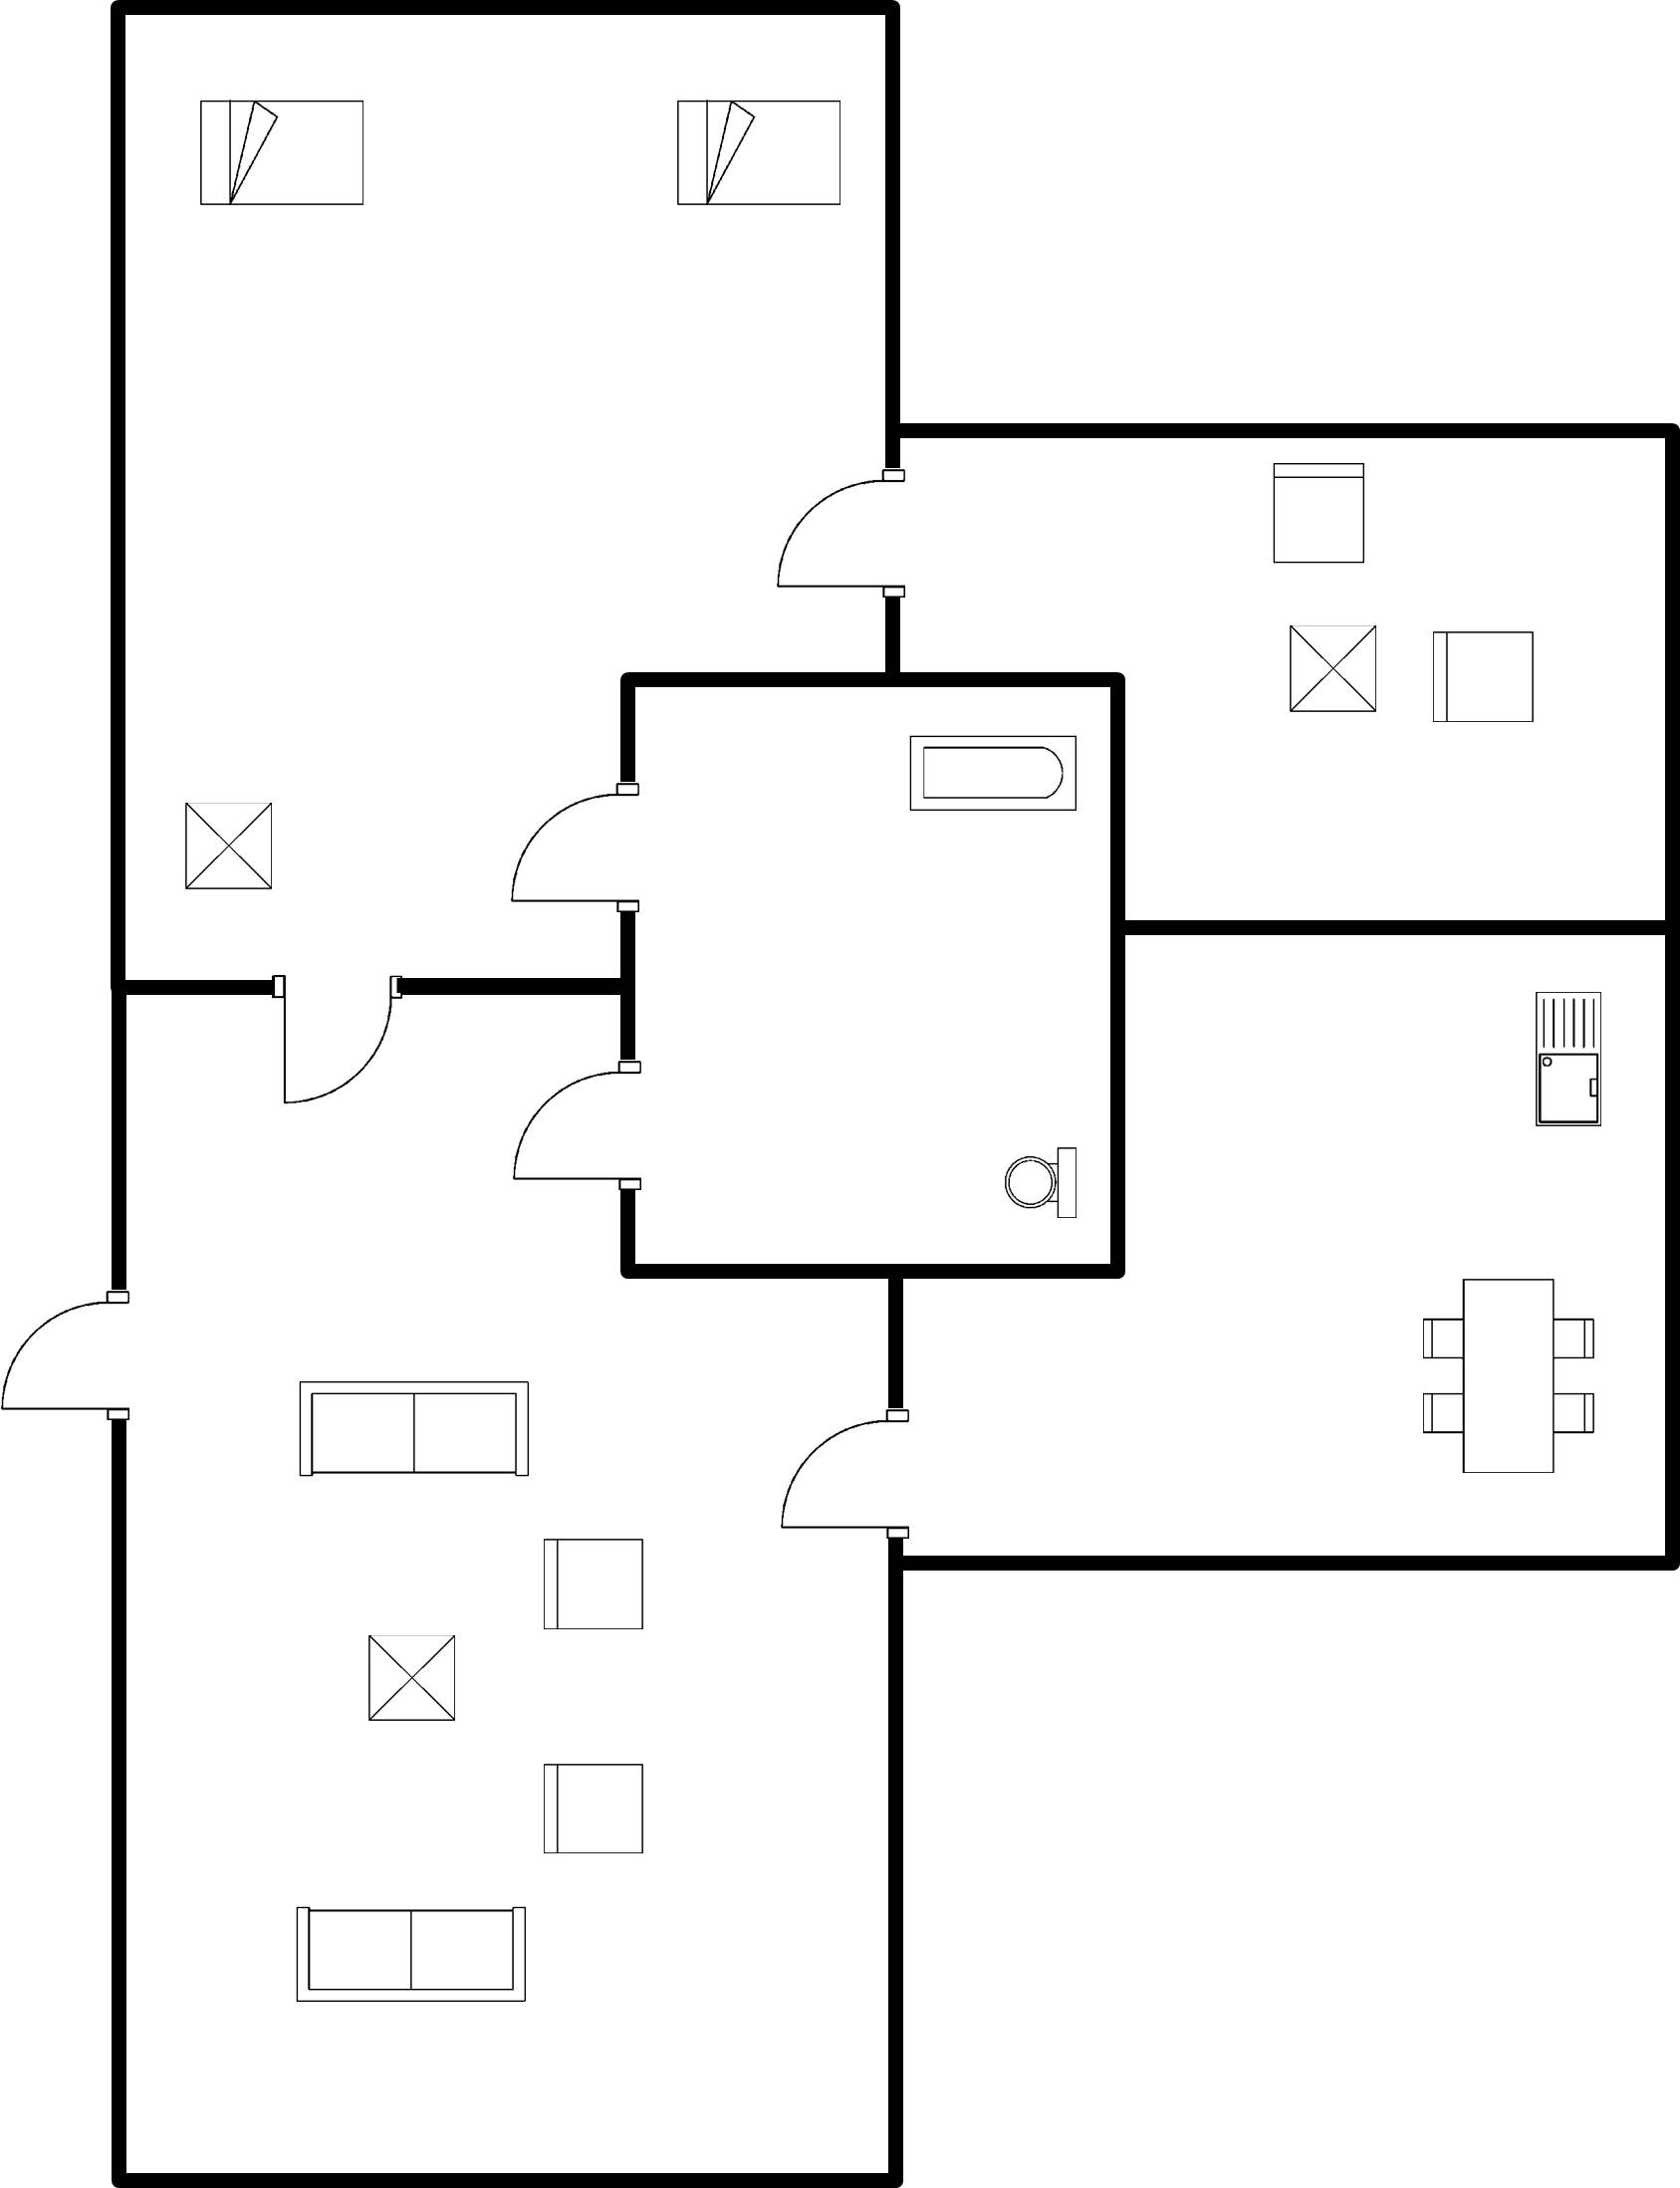bed: (663, 87, 853, 225), (189, 85, 375, 225)
coffee_table: (1267, 604, 1394, 723), (167, 788, 291, 902), (356, 1621, 470, 1734)
dining_table: (1408, 1258, 1604, 1492)
large_sink: (988, 1134, 1093, 1236)
large_sofa: (286, 1363, 544, 1498), (276, 1890, 540, 2011)
sink: (1518, 974, 1617, 1145)
small_sofa: (525, 1749, 661, 1872), (1414, 619, 1544, 740), (531, 1524, 667, 1639), (1261, 448, 1377, 576)
tub: (896, 719, 1089, 838)
